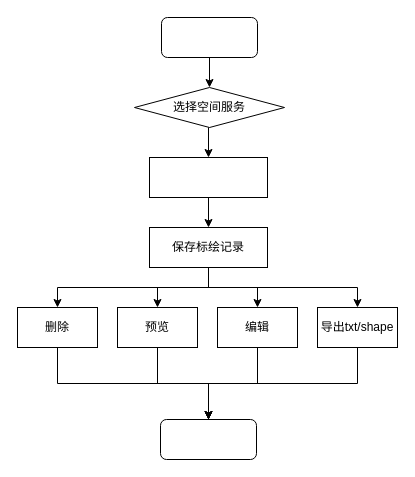
Image size: 415x477. Some labels were removed from this diagram. Each missing label, with the centre of its shape:
开始: (x=209, y=37)
标绘目标位置: (x=208, y=177)
结束: (x=208, y=439)
